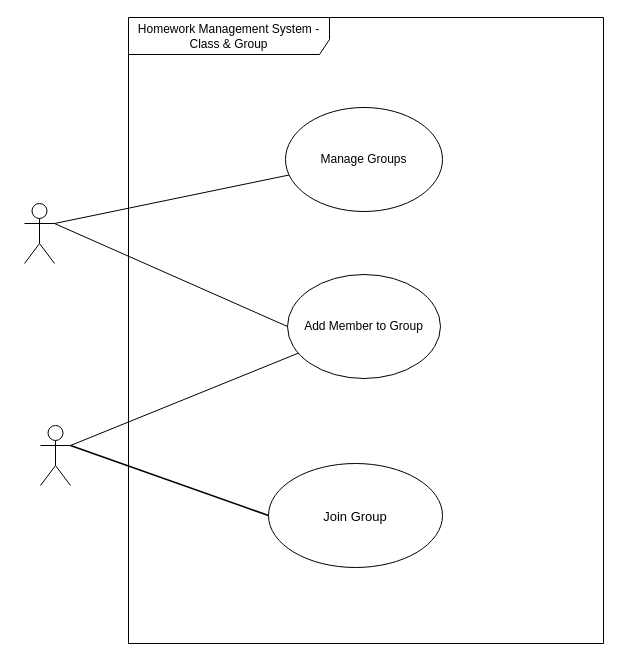
Some shapes in this 621 by 661 pixel diagram are drawn without their labels. Here are the shapes that lost their labels. From the top down, the box of each, then its label:
(24, 202, 54, 264): Lecturer
(40, 424, 70, 486): Student
